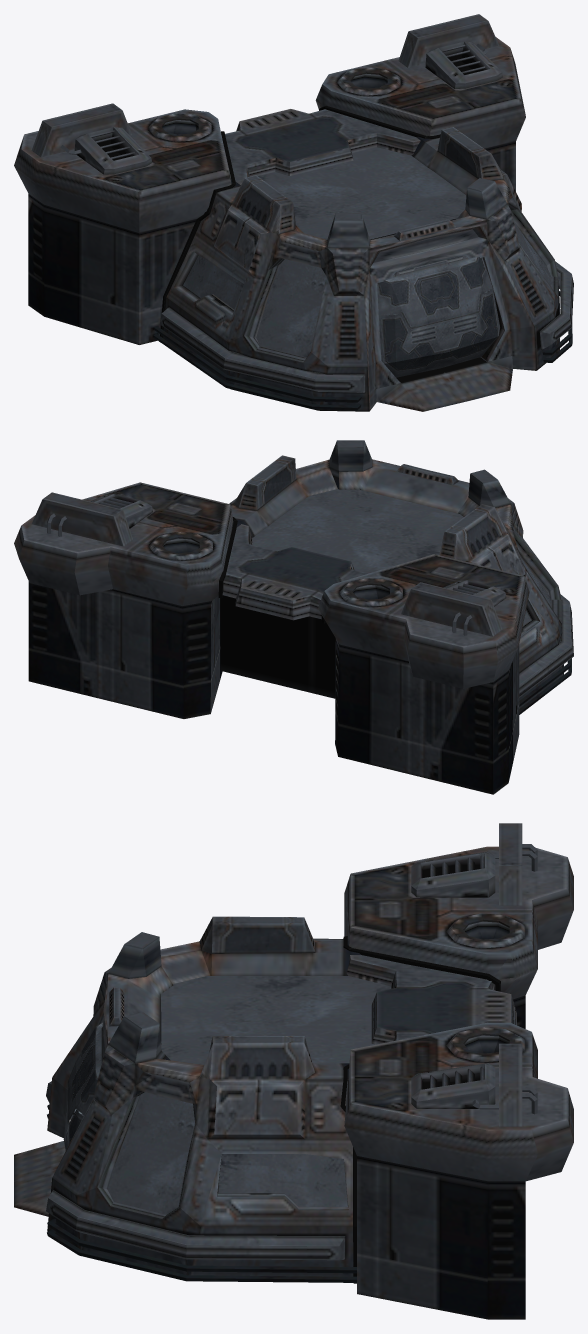
Rendered from SM_EN_1002_kongzhitai03.FBX.
The picture shows the model from 3 angles, top to bottom: view 1: azimuth 30°, elevation 25°; view 2: azimuth 150°, elevation 25°; view 3: azimuth 270°, elevation 25°; orthographic projection. The views are drawn at different scales.
Visible parts, largest first — view 1: SM_EN_1002_kongzhitai03; view 2: SM_EN_1002_kongzhitai03; view 3: SM_EN_1002_kongzhitai03.
Boxes of the visible parts, x1,y1,x2,y2 form: SM_EN_1002_kongzhitai03: (14,14,573,411); SM_EN_1002_kongzhitai03: (14,440,573,794); SM_EN_1002_kongzhitai03: (14,823,573,1319).
Bounding box in the file's own units: 238 × 87.14 × 194.
